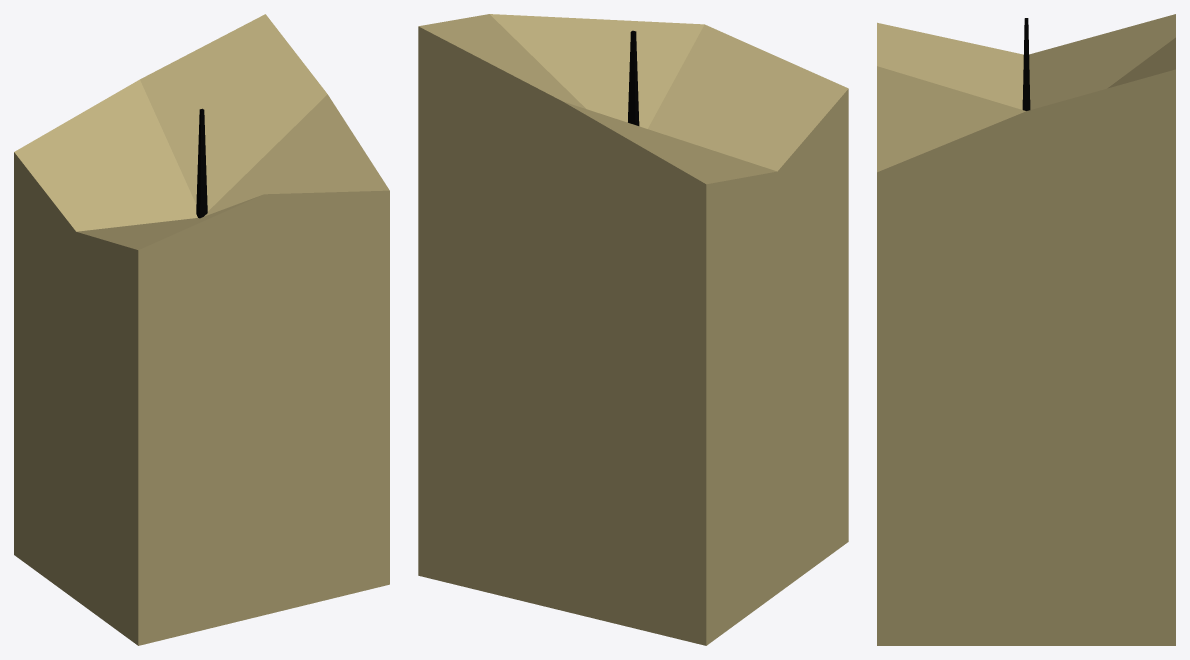
Rendered from Candle.fbx.
The picture shows the model from 3 angles, left to right: view 1: azimuth 30°, elevation 25°; view 2: azimuth 150°, elevation 25°; view 3: azimuth 270°, elevation 25°; orthographic projection. The views are drawn at different scales.
Visible parts, largest first — view 1: Candle; view 2: Candle; view 3: Candle.
Part boxes in pixels (<box>): Candle: <box>14,14,389,645</box>; Candle: <box>418,14,848,645</box>; Candle: <box>877,14,1175,645</box>.
Bounding box in the file's own units: 3.12 × 5.69 × 2.67.
